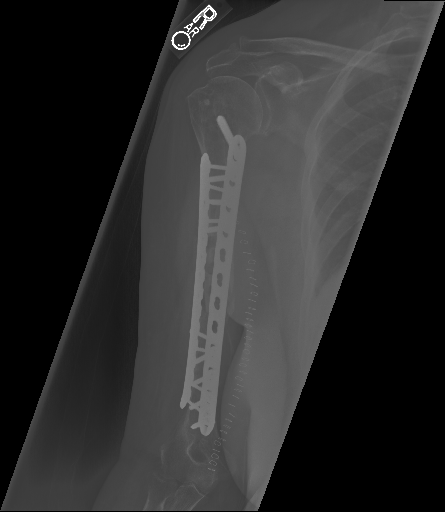implant: (180, 109, 245, 434)
